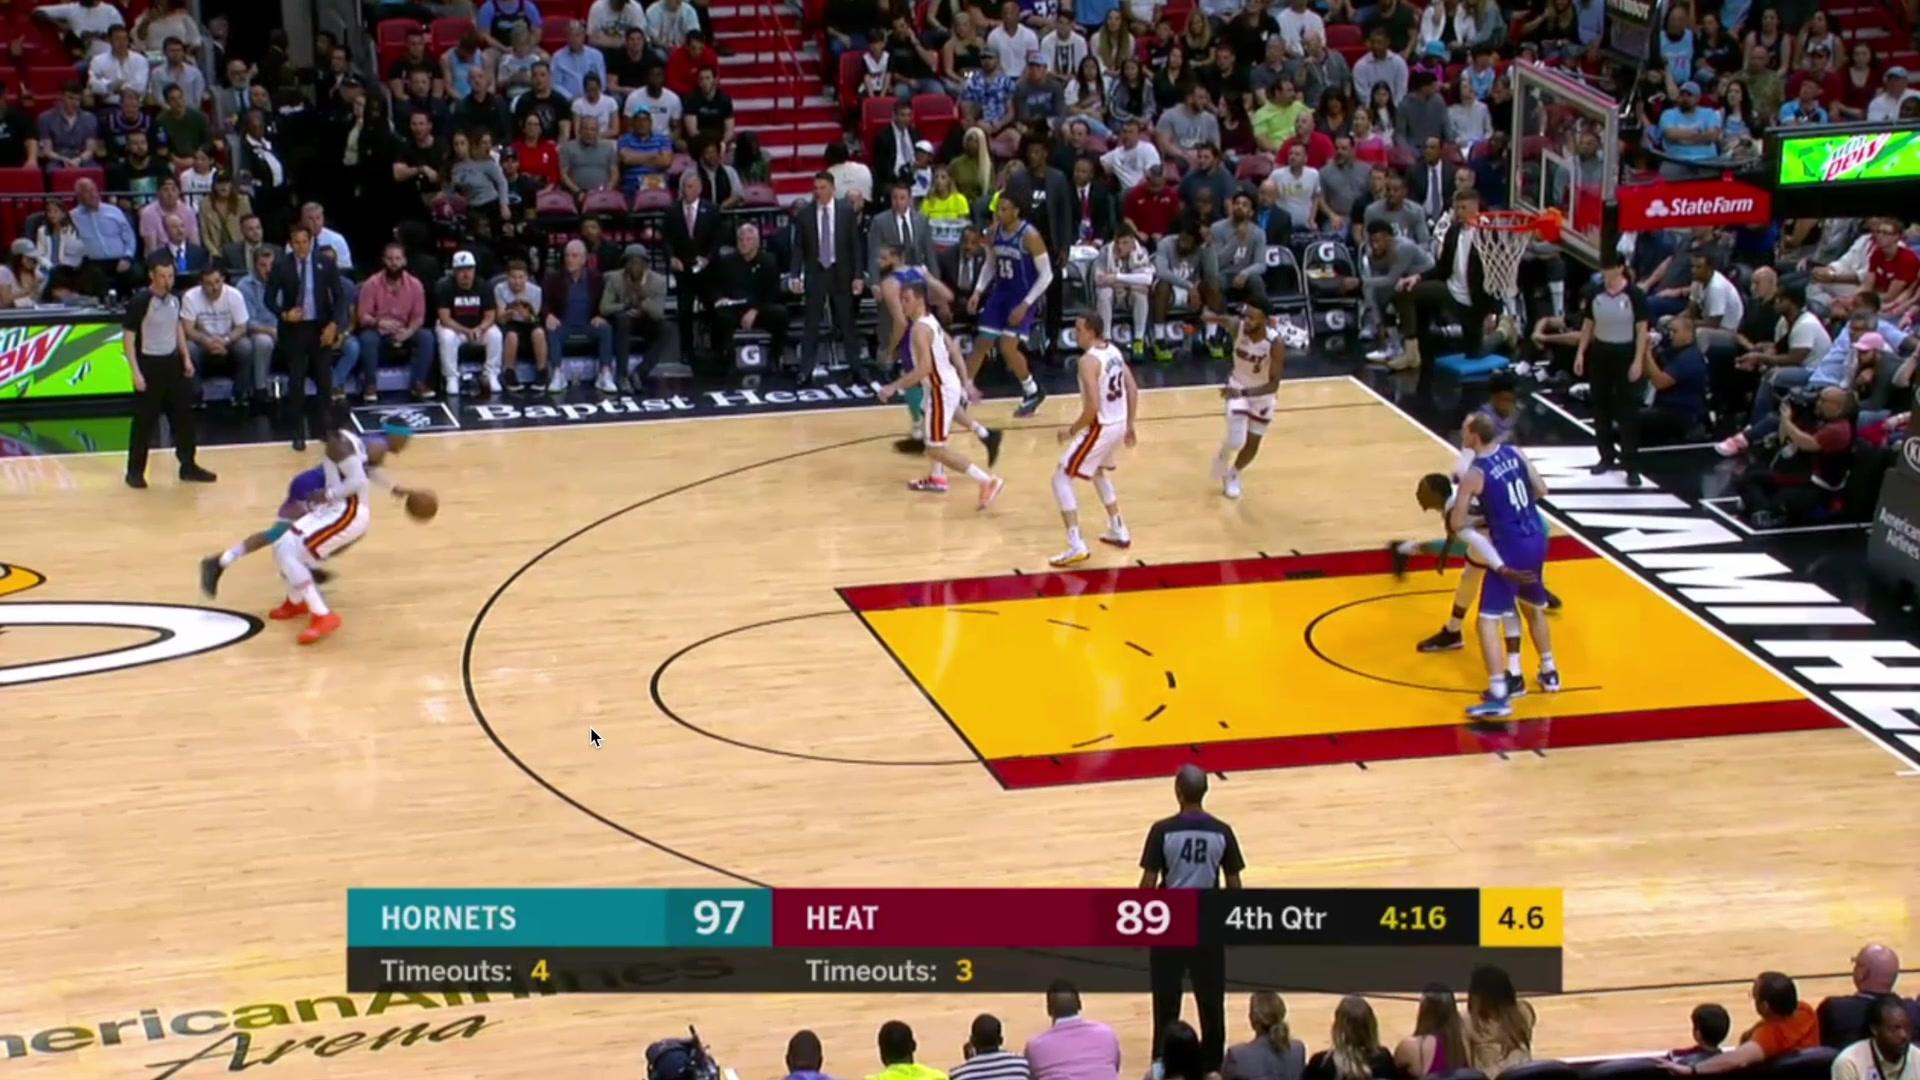no_foul: (1415, 404, 1563, 715)
